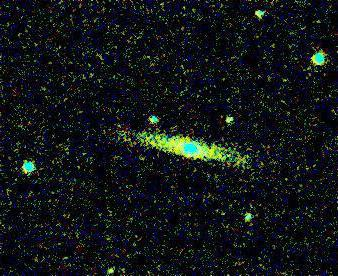star: (97, 253, 127, 276)
